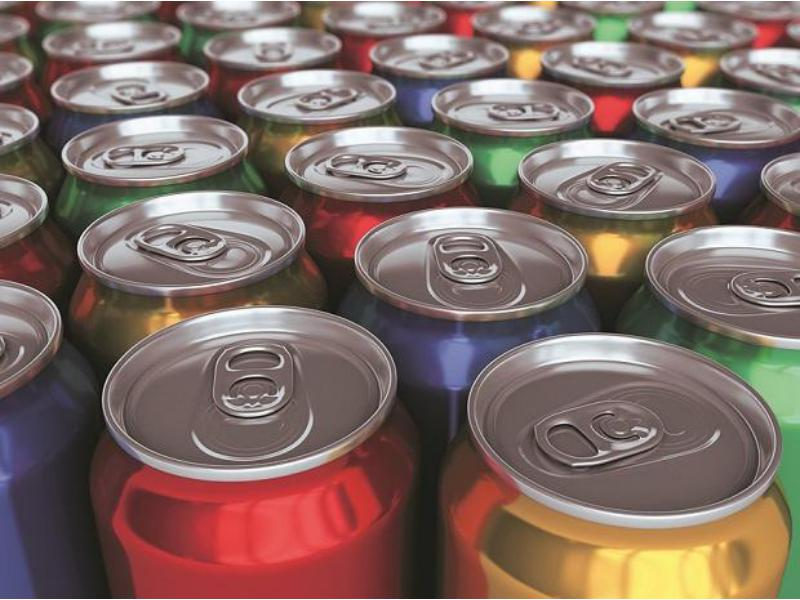can: (104, 309, 418, 600), (465, 329, 799, 600), (72, 189, 345, 304), (348, 204, 606, 324), (637, 223, 800, 346), (509, 133, 728, 223), (280, 124, 498, 213), (56, 114, 254, 182), (616, 87, 800, 153), (425, 78, 608, 140), (227, 65, 411, 126), (50, 61, 222, 111), (535, 42, 703, 91), (368, 36, 519, 77), (198, 27, 346, 68), (43, 21, 186, 56), (714, 46, 800, 98)
